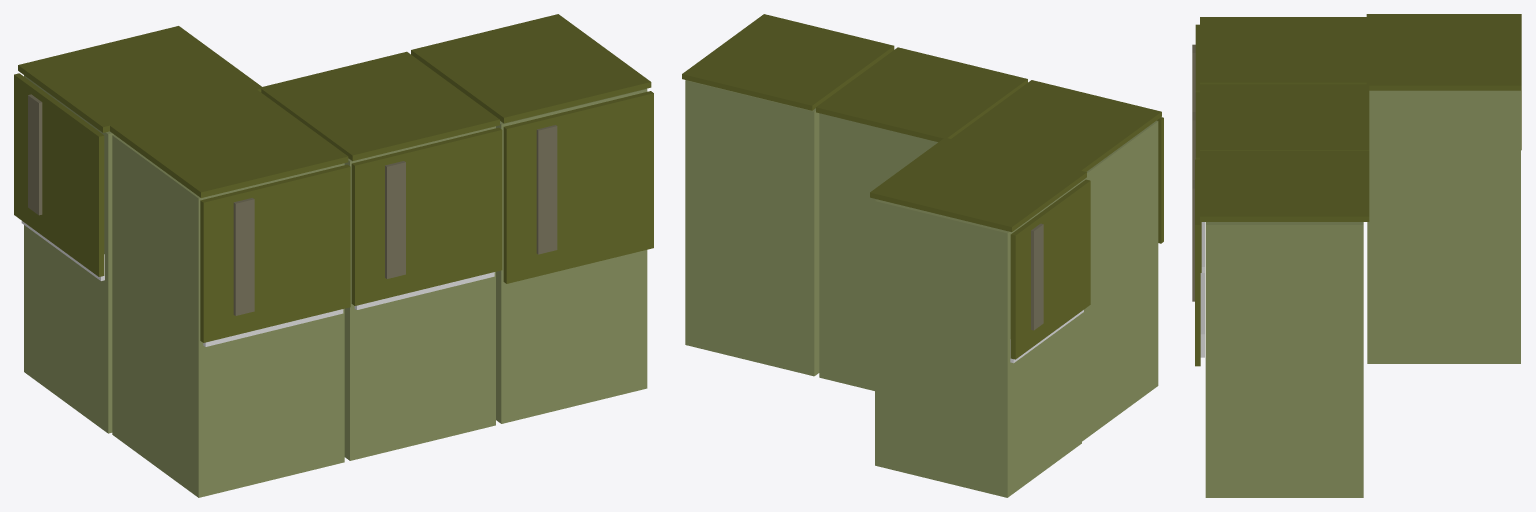
Rendered from SM_HescoRemate_v4_Red_e0_Sano_LOD1.fbx.
3 views of the same model, side by side, from view 1: azimuth 30°, elevation 25°; view 2: azimuth 150°, elevation 25°; view 3: azimuth 270°, elevation 25° (orthographic). The views are drawn at different scales.
Parts seen in each view (by area): view 1: SM_hesco_piezas_v36_LOD1; view 2: SM_hesco_piezas_v36_LOD1; view 3: SM_hesco_piezas_v36_LOD1.
Boxes of the visible parts, x1,y1,x2,y2 form: SM_hesco_piezas_v36_LOD1: (14, 14, 653, 497); SM_hesco_piezas_v36_LOD1: (682, 14, 1163, 497); SM_hesco_piezas_v36_LOD1: (1192, 14, 1521, 497).
Bounding box in the file's own units: 3.41 × 2.16 × 2.3.
